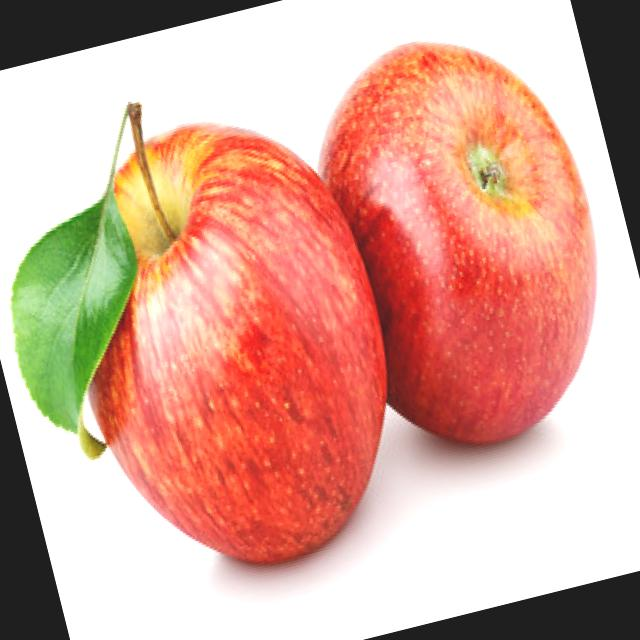apple: (19, 82, 440, 611), (271, 0, 640, 495)
